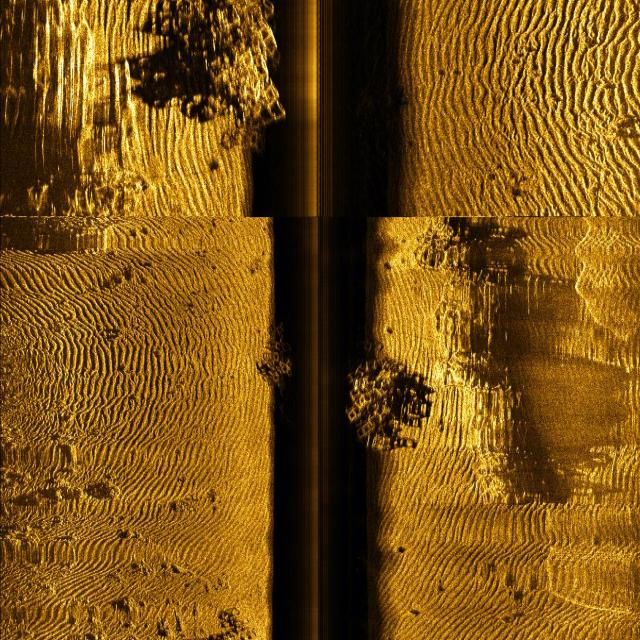artificial reef: (156, 0, 285, 126), (342, 346, 412, 471), (255, 288, 308, 408)
